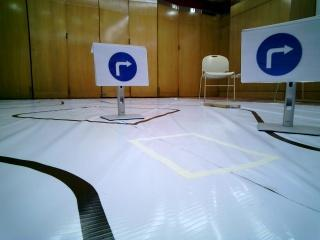right: (244, 30, 320, 78), (95, 43, 150, 87)
